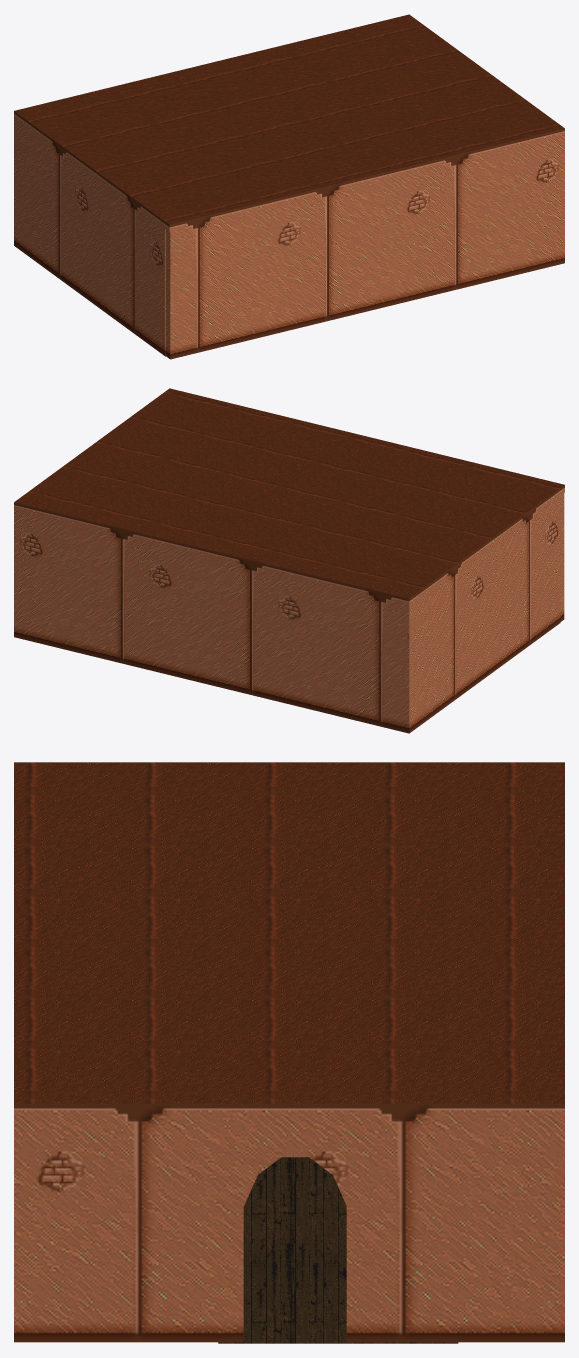
Rendered from Mount_brush.glb.
The picture shows the model from 3 angles, top to bottom: view 1: azimuth 30°, elevation 25°; view 2: azimuth 150°, elevation 25°; view 3: azimuth 270°, elevation 25°; orthographic projection. The views are drawn at different scales.
Parts seen in each view (by area): view 1: Mount; view 2: Mount; view 3: Mount.
Part boxes in pixels (box(x1,y1,x2,y2)): Mount: box(14, 14, 564, 359); Mount: box(14, 388, 564, 733); Mount: box(14, 762, 564, 1343).
Size of the model in its own units: 862 by 284 by 588.
4 materials, 4 textured.
